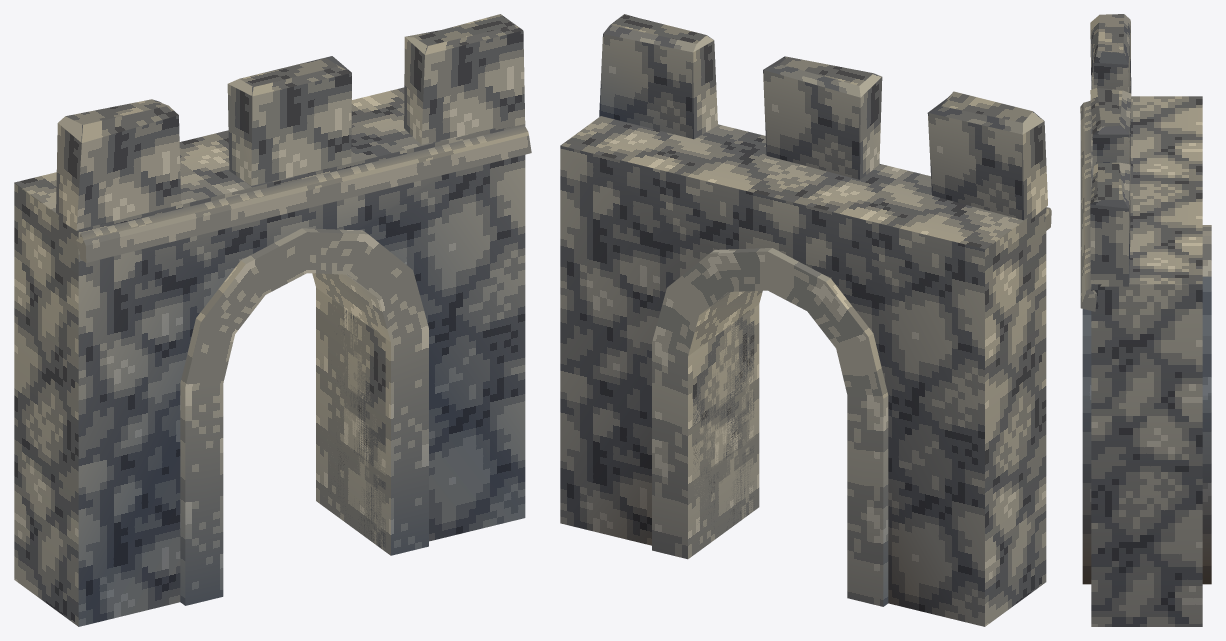
File: vlg.wall__postern.glb
3 renders of one model, left to right at view 1: azimuth 30°, elevation 25°; view 2: azimuth 150°, elevation 25°; view 3: azimuth 270°, elevation 25°, orthographic. The views are drawn at different scales.
Visible parts, largest first — view 1: kit_wall, kit_top, kit_fittings; view 2: kit_wall, kit_fittings, kit_top; view 3: kit_wall, kit_top, kit_fittings.
Part boxes in pixels (x1,y1,x2,y2): kit_wall: (14,87,525,626); kit_top: (56,14,531,262); kit_fittings: (180,228,428,605); kit_wall: (560,116,1046,626); kit_fittings: (652,248,888,606); kit_top: (599,14,1051,230); kit_wall: (1091,96,1202,626); kit_top: (1080,14,1131,311); kit_fittings: (1082,225,1211,584).
Bounding box in the file's own units: 4.03 × 4.25 × 1.18.
Materials: 2 (2 with a texture image).
